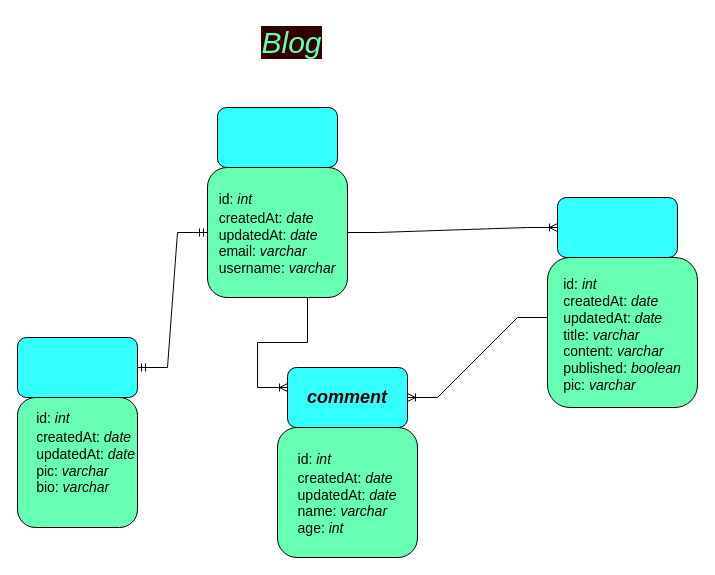
Image size: 715x575. Some labels were removed from this diagram. The shapes that lost their labels are listed below. From the top down, each one's box as (x1, y1, x2, y2) in pixels, then its label:
(216, 106, 338, 168): user
(556, 196, 678, 258): post
(16, 336, 138, 398): profile
